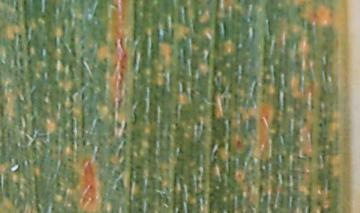tarspot: (257, 182, 264, 199), (80, 90, 86, 102), (80, 138, 87, 146), (237, 172, 244, 180), (16, 32, 23, 39), (279, 153, 285, 161), (79, 80, 85, 88), (302, 116, 308, 123), (79, 44, 86, 50), (55, 181, 61, 187), (316, 200, 322, 206), (317, 121, 322, 128)
